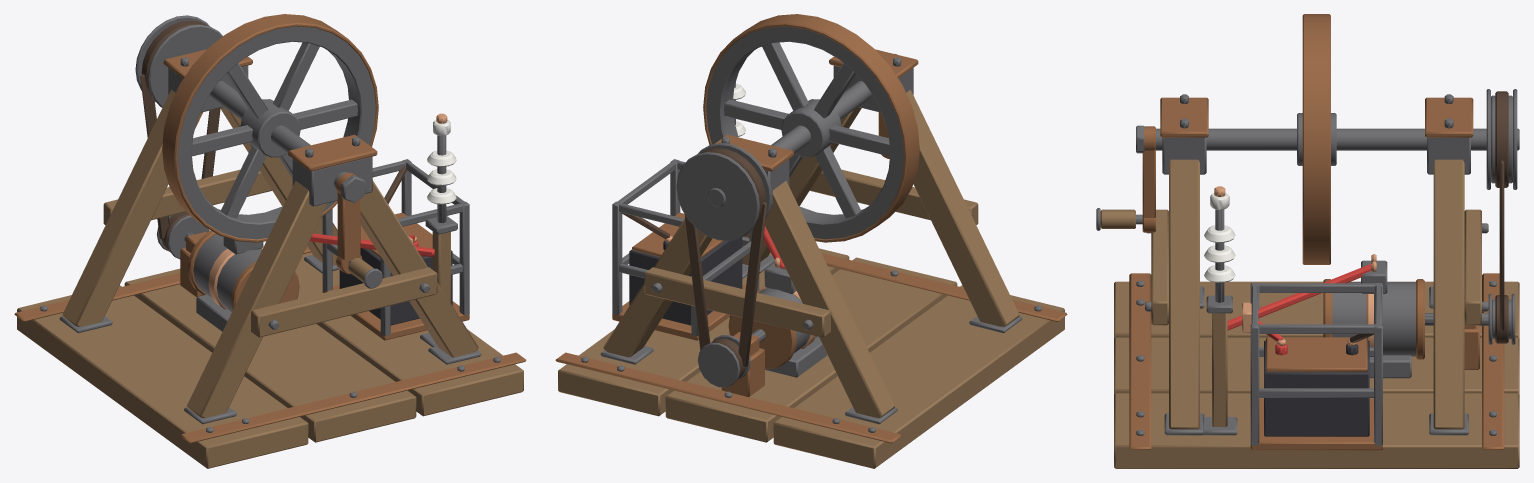
The model's file is feCrank.fbx.
3 views of the same model, side by side, from view 1: azimuth 30°, elevation 25°; view 2: azimuth 150°, elevation 25°; view 3: azimuth 270°, elevation 25° (orthographic). The views are drawn at different scales.
Parts seen in each view (by area): view 1: feCrank_Base, feCrank_Rotor, feCrank_Module, feCrank_Battery, feCrank_DynamoPulley; view 2: feCrank_Base, feCrank_Rotor, feCrank_Module, feCrank_Battery, feCrank_DynamoPulley; view 3: feCrank_Base, feCrank_Rotor, feCrank_Battery, feCrank_Module, feCrank_DynamoPulley.
Boxes of the visible parts, left/top/right/bottom form: feCrank_Base: left=14, top=20, right=526, bottom=468; feCrank_Rotor: left=135, top=14, right=382, bottom=288; feCrank_Module: left=322, top=159, right=469, bottom=340; feCrank_Battery: left=339, top=166, right=452, bottom=325; feCrank_DynamoPulley: left=156, top=215, right=209, bottom=259; feCrank_Base: left=555, top=49, right=1067, bottom=468; feCrank_Rotor: left=676, top=14, right=919, bottom=242; feCrank_Module: left=612, top=159, right=759, bottom=340; feCrank_Battery: left=621, top=212, right=742, bottom=325; feCrank_DynamoPulley: left=697, top=329, right=765, bottom=387; feCrank_Base: left=1114, top=91, right=1519, bottom=468; feCrank_Rotor: left=1096, top=14, right=1519, bottom=264; feCrank_Battery: left=1258, top=320, right=1373, bottom=436; feCrank_Module: left=1242, top=283, right=1382, bottom=450; feCrank_DynamoPulley: left=1425, top=293, right=1515, bottom=344.
Bounding box in the file's own units: 0.94 × 0.905 × 0.96.
